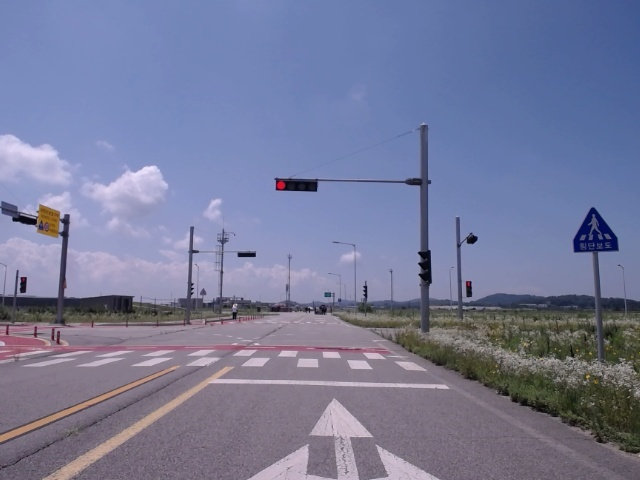red_4: (276, 181, 317, 192)
